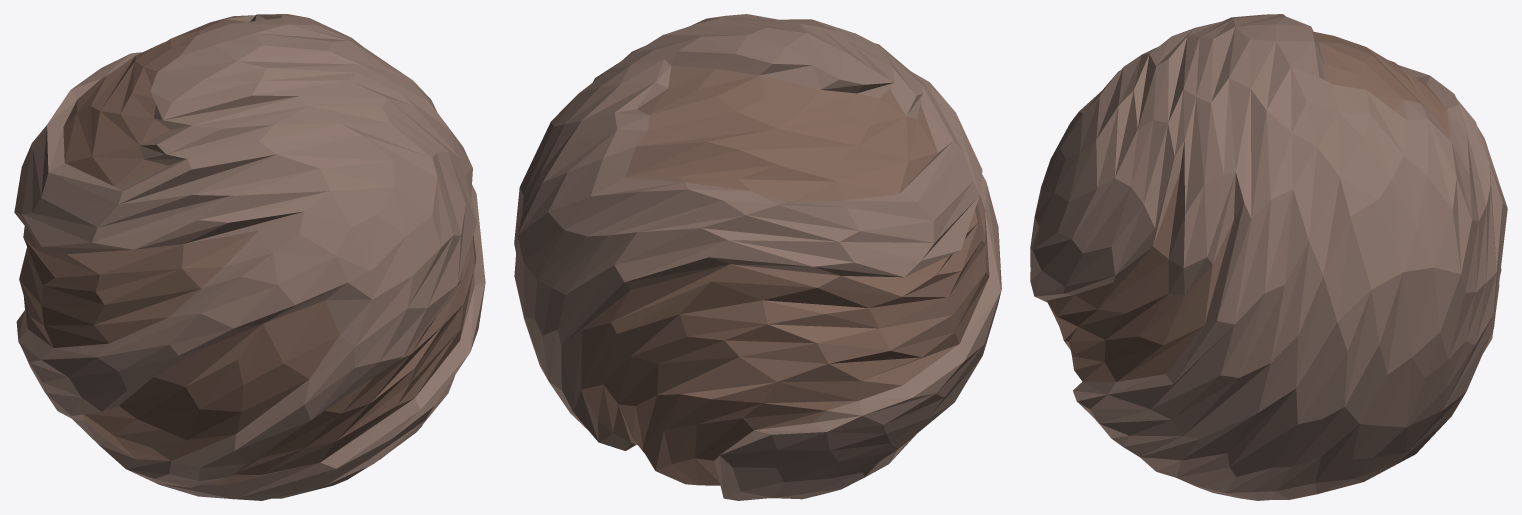
Rendered from Pluto.fbx.
The picture shows the model from 3 angles, left to right: view 1: azimuth 30°, elevation 25°; view 2: azimuth 150°, elevation 25°; view 3: azimuth 270°, elevation 25°; orthographic projection.
Parts seen in each view (by area): view 1: Pluto; view 2: Pluto; view 3: Pluto.
Part boxes in pixels (<box>): Pluto: <box>14,14,485,500</box>; Pluto: <box>514,14,1001,500</box>; Pluto: <box>1030,14,1507,500</box>.
Size of the model in its own units: 34.21 by 34.65 by 33.94.
Materials: 1 (1 with a texture image).
